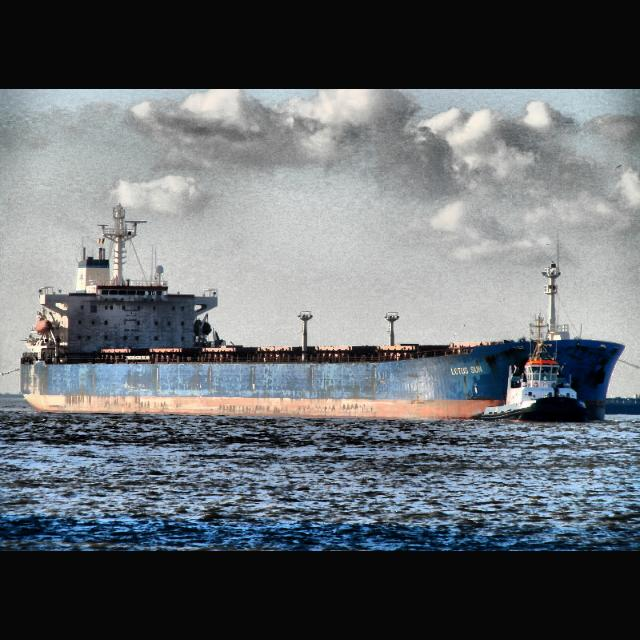bulk_carrier: (20, 217, 626, 425)
tug: (478, 344, 590, 424)
